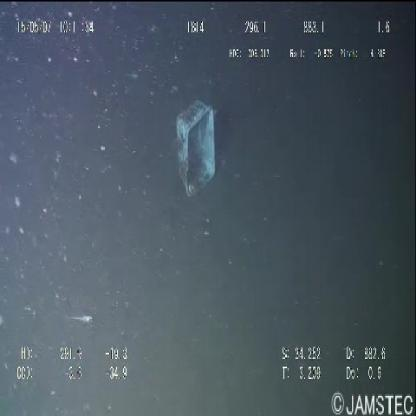Rác: (171, 89, 226, 205)
